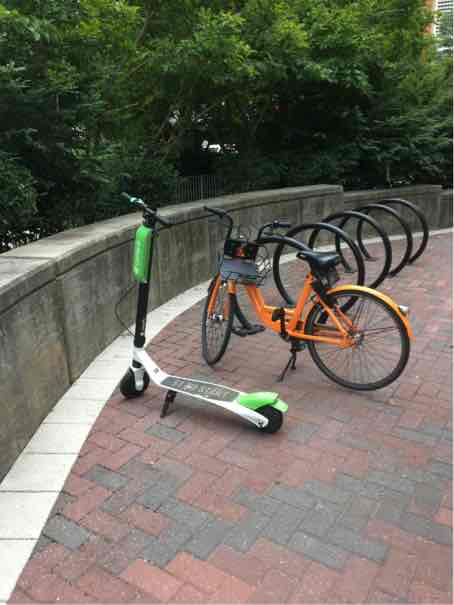scooter: (110, 184, 291, 435)
